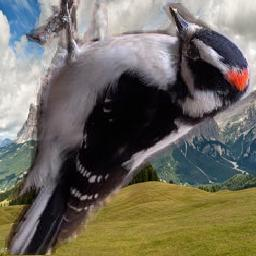Woodpecker: (6, 1, 255, 256)
